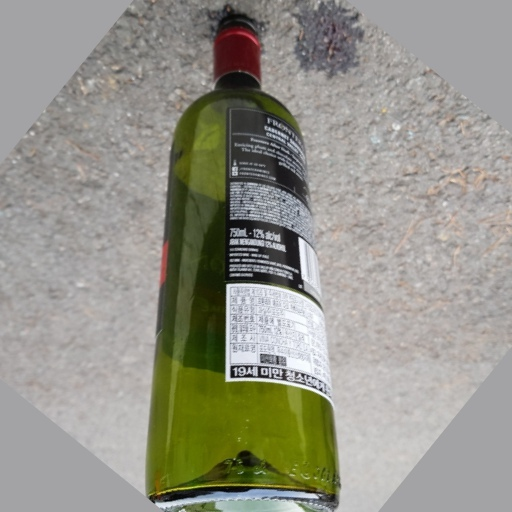Glass_2: (139, 13, 340, 512)
